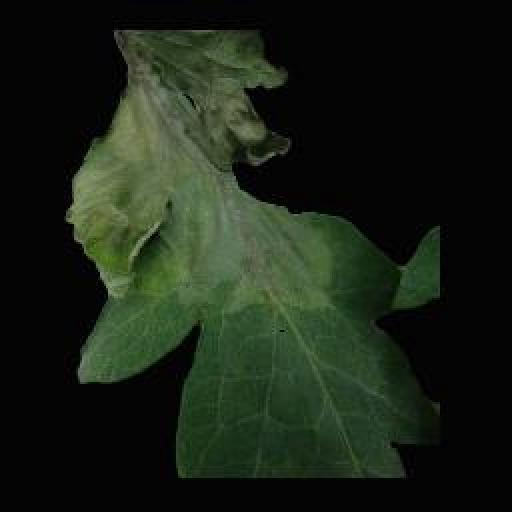disease_tomato: (68, 26, 442, 476)
